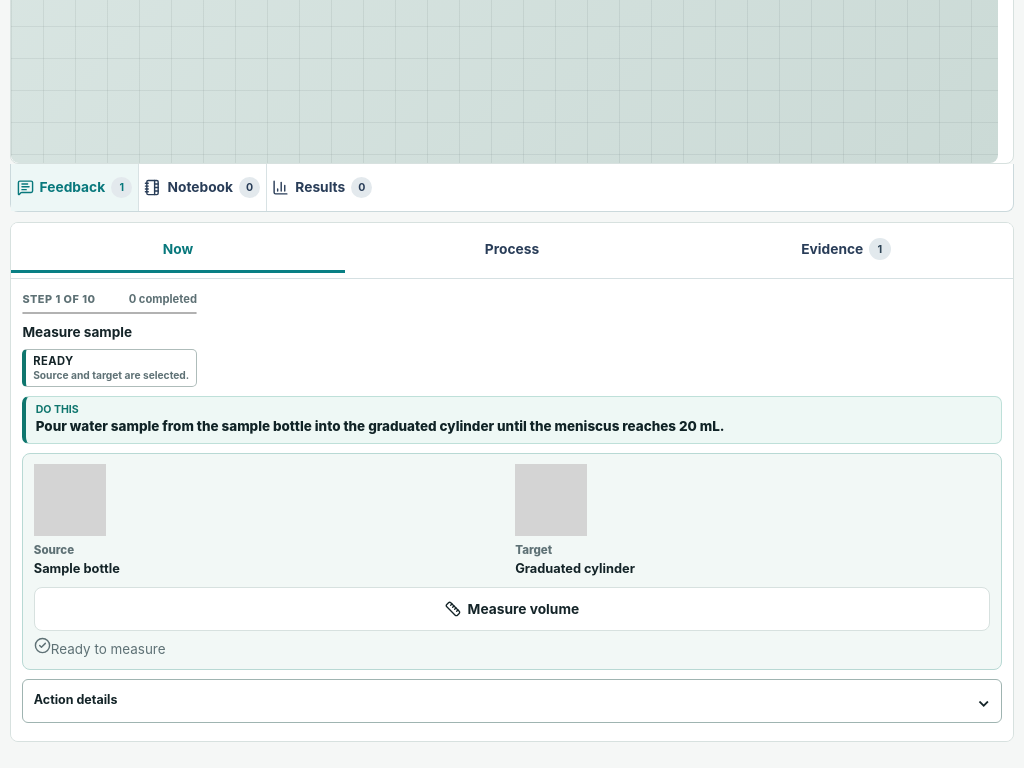
Test case: StudentPlayer › runs a normalized legacy sample rack draft through accessible volume confirmation
(page scrolled)
Click the button "Measure volume": (512, 609) [34,587,990,631]
(page scrolled)
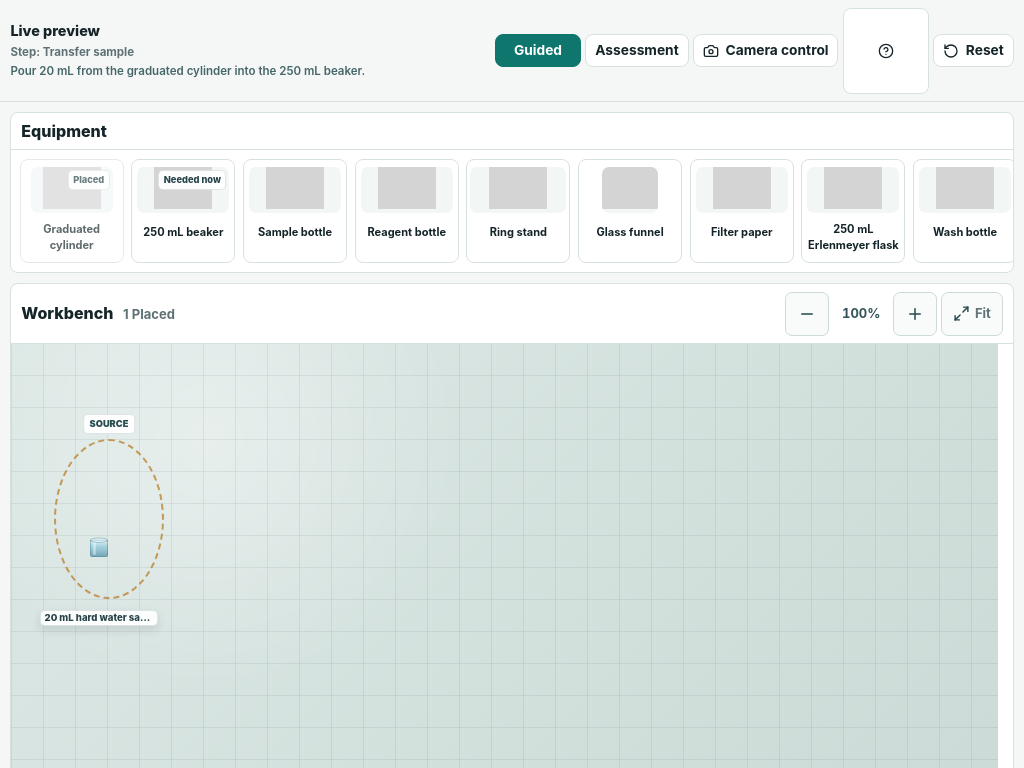
Expected: the text "Step: Transfer sample" is shown, [10,45,134,59]
